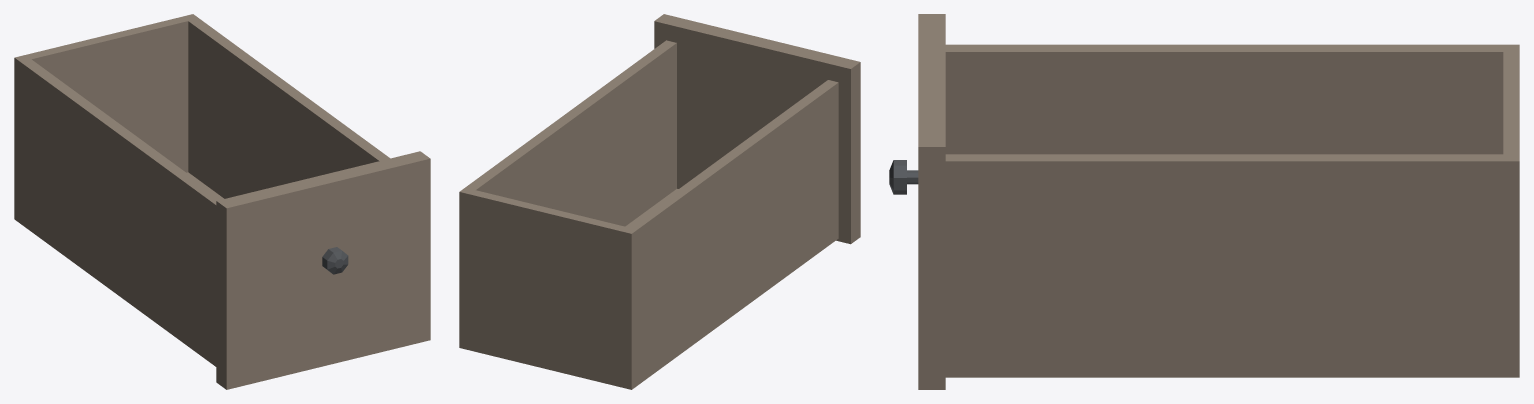
File: Door3_C5_07.fbx
3 views of the same model, side by side, from view 1: azimuth 30°, elevation 25°; view 2: azimuth 150°, elevation 25°; view 3: azimuth 270°, elevation 25° (orthographic). The views are drawn at different scales.
Visible parts, largest first — view 1: Door3_C5_07; view 2: Door3_C5_07; view 3: Door3_C5_07.
Boxes of the visible parts, left/top/right/bottom form: Door3_C5_07: left=14, top=14, right=430, bottom=389; Door3_C5_07: left=459, top=14, right=860, bottom=389; Door3_C5_07: left=889, top=14, right=1519, bottom=389.
Size of the model in its own units: 29 by 24.68 by 58.03.
